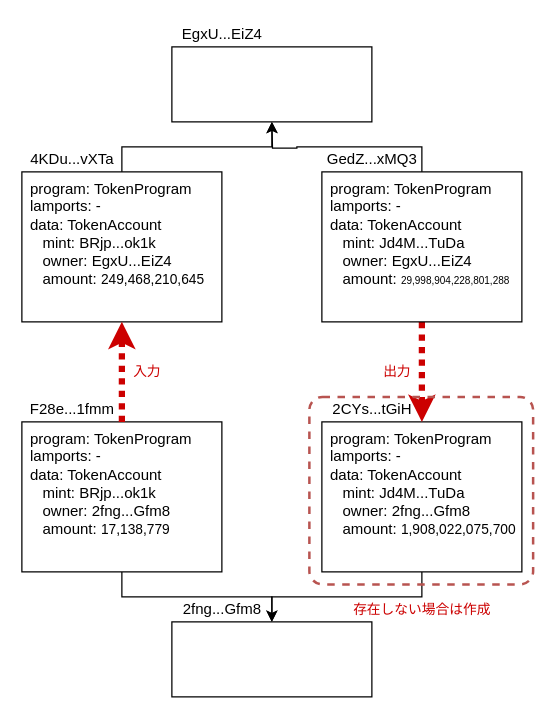
Image size: 556x719. Some labels were removed from this diagram. The shapes that lost their labels are listed below. From the top down, each one's centre as x and y in pixels, then its label:
At (271,84): "program: Whirlpool lamports: - data: Whirlpool".
At (271,659): "program: SystemProgram lamports: 1,191,782,892 data: -".
